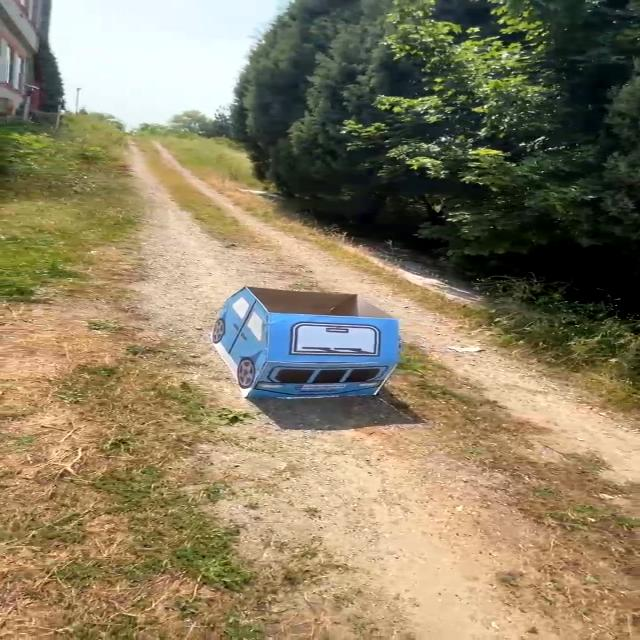blue_car: (176, 272, 423, 410)
